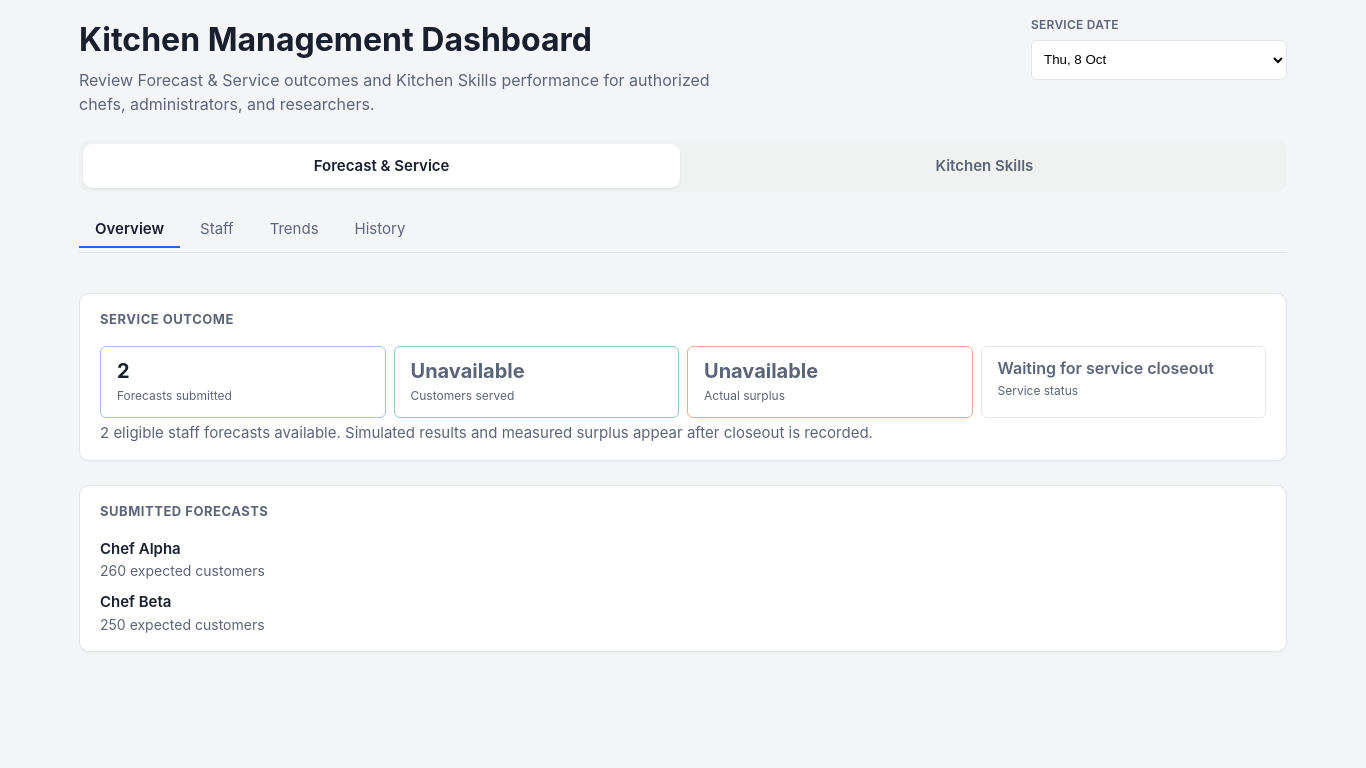
Test case: unified Kitchen Management Dashboard › opens and closes Kitchen Skills participant detail drawer with correct actor
Click the tab with test id "kitchen-mgmt-area-tab-skills".
click(984, 166)  # box [686,144,1283,188]
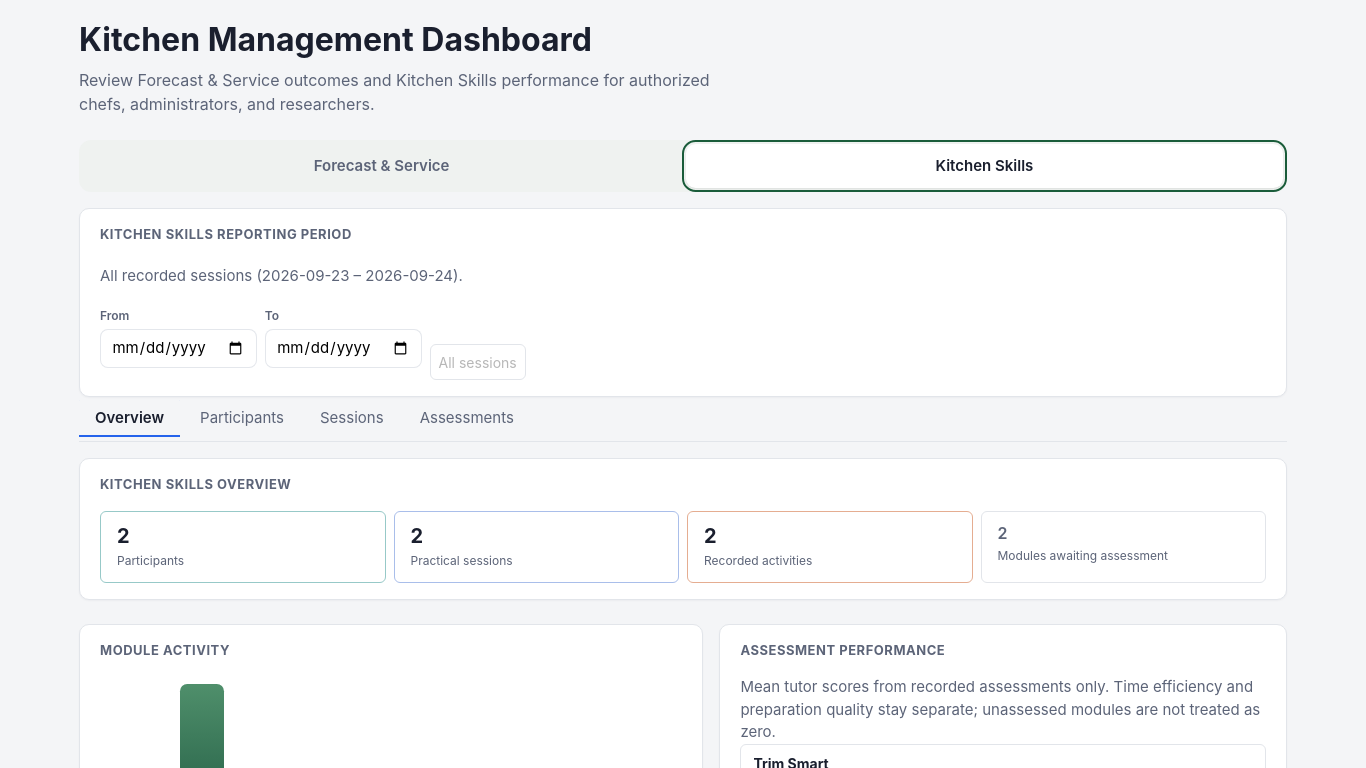
Click the tab with test id "kitchen-mgmt-skills-tab-participants".
click(242, 417)  # box [184,397,300,437]
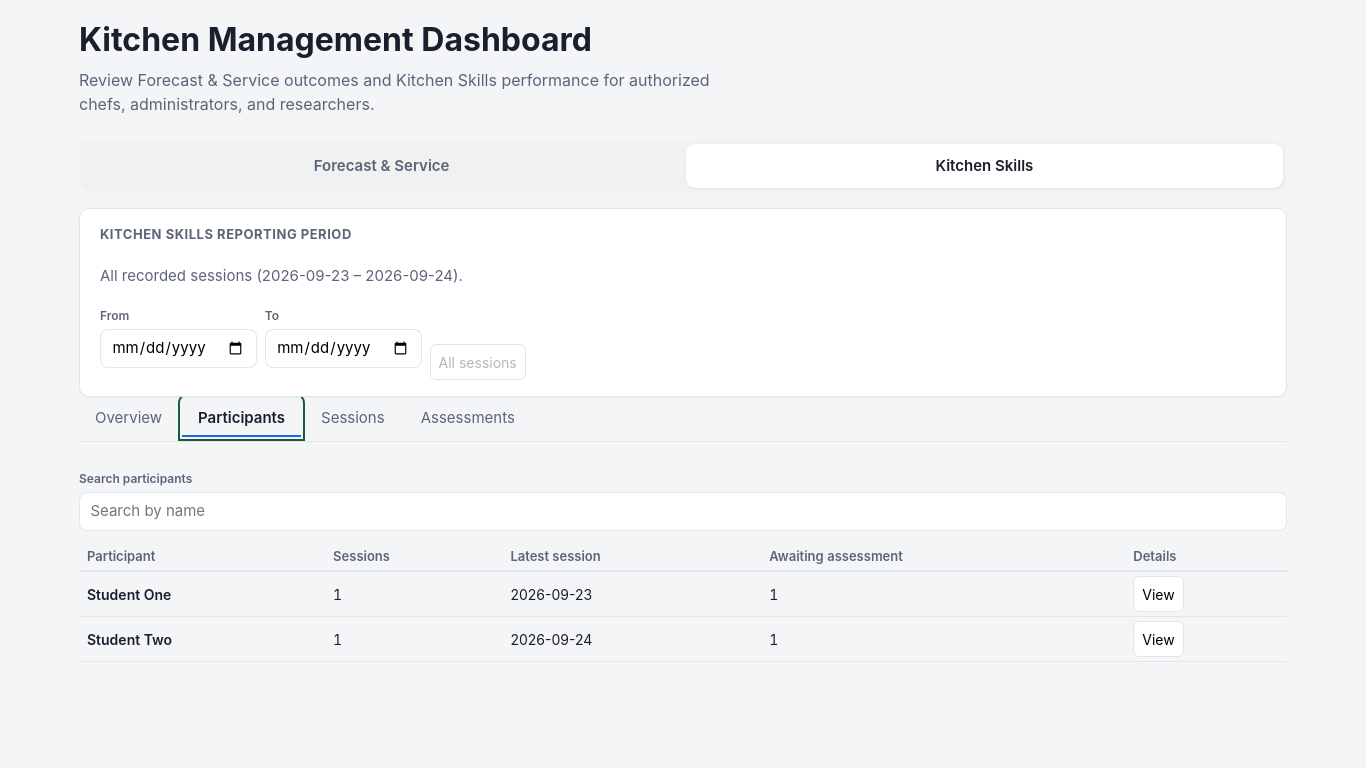
Click the button with test id "skills-participant-view-user-1".
click(1158, 594)  # box [1133,576,1184,612]
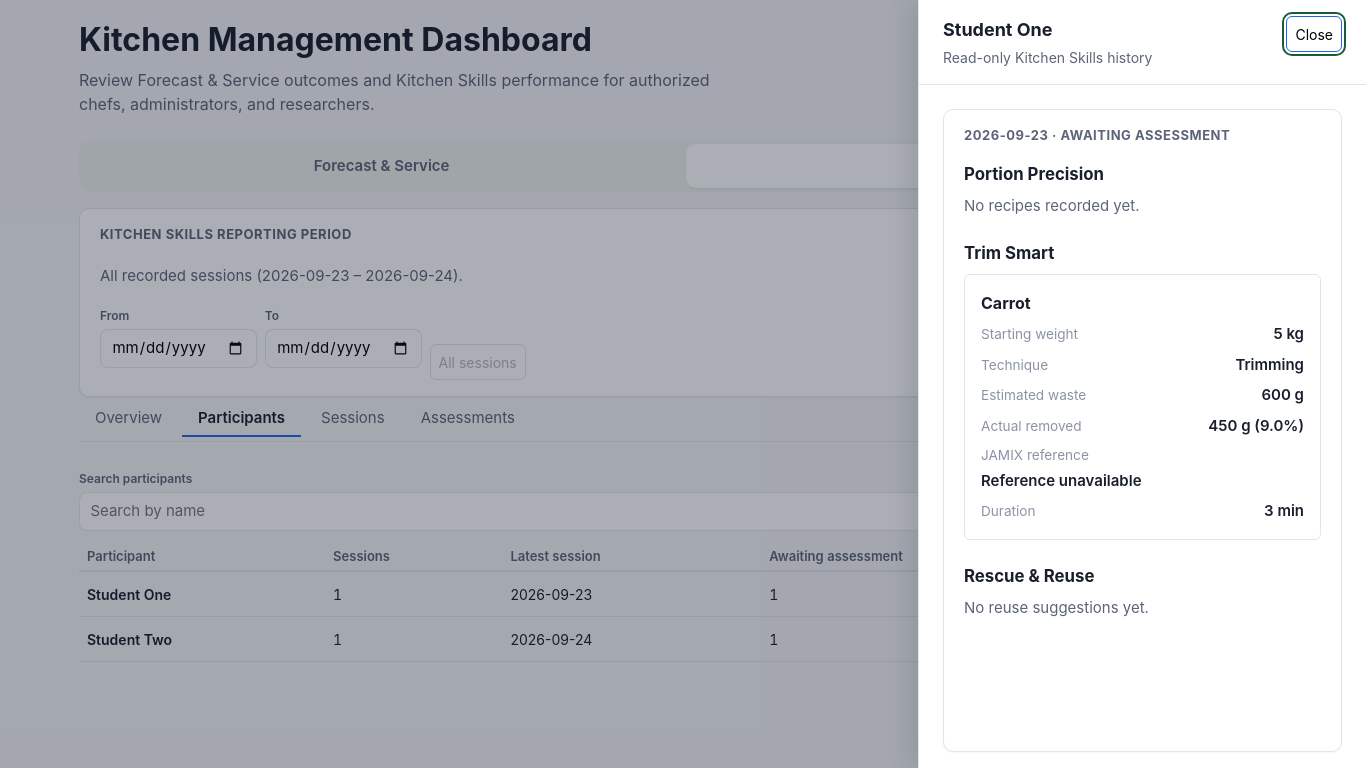
Expected: the column heading "Student Two" is shown, [79,617,325,662]
Expected: the dialog with test id "kitchen-mgmt-skills-participant-detail" is shown, [918,0,1365,767]
Expected: the heading with test id "kitchen-mgmt-skills-participant-detail-title" reads "Student One", [943,19,1052,40]
Press Escape
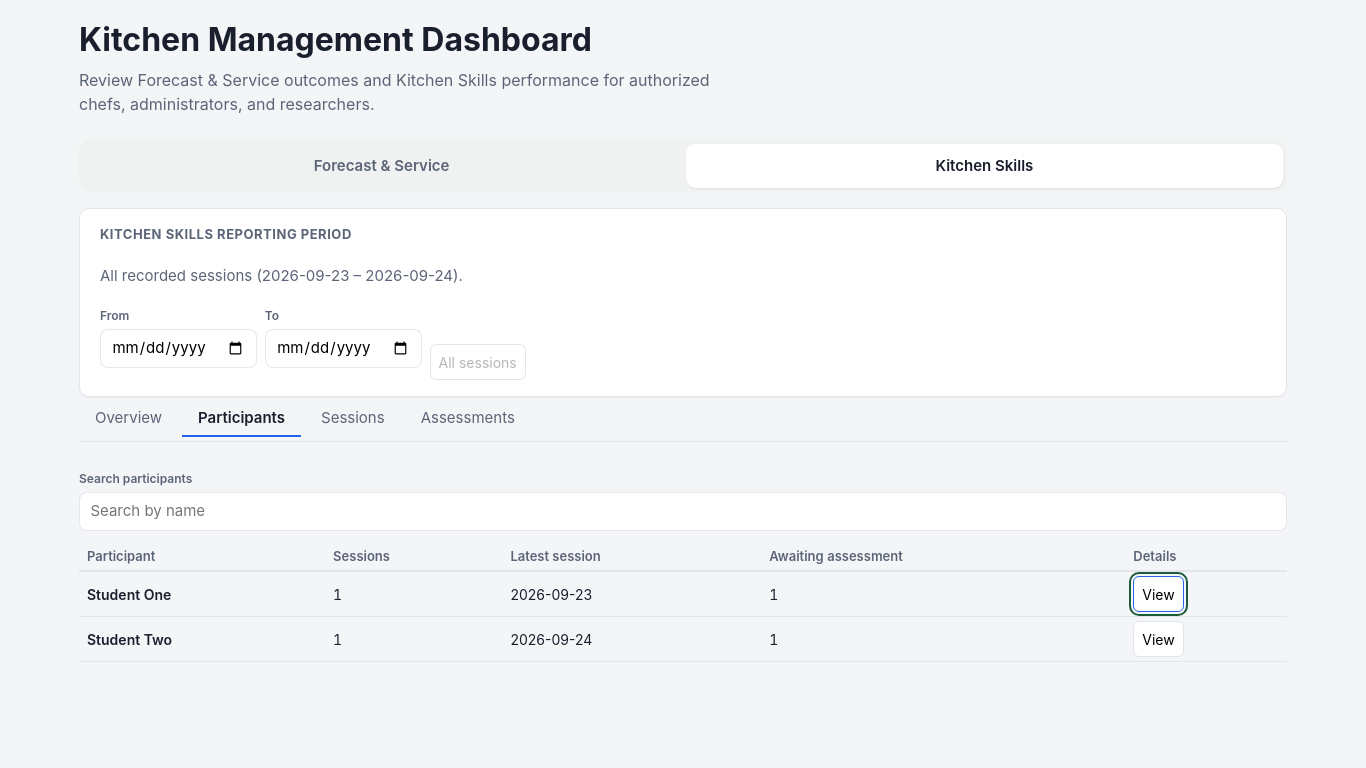
Expected: the dialog with test id "kitchen-mgmt-skills-participant-detail" is gone
